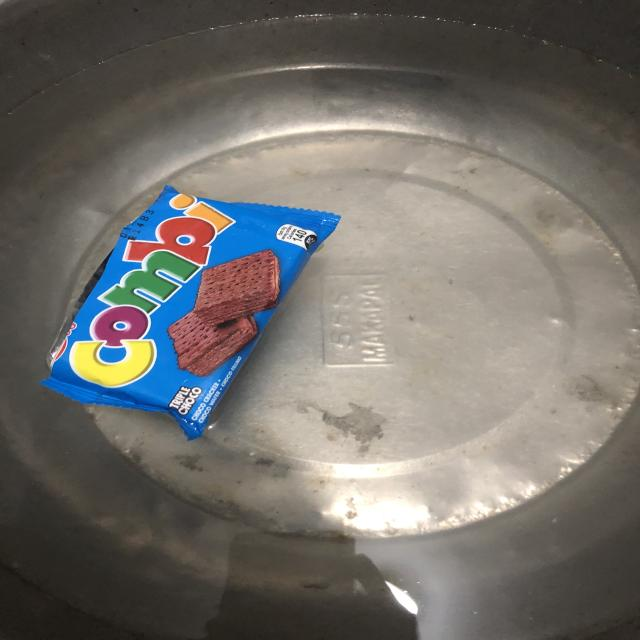Plastic Wrapper: (13, 170, 368, 454)
